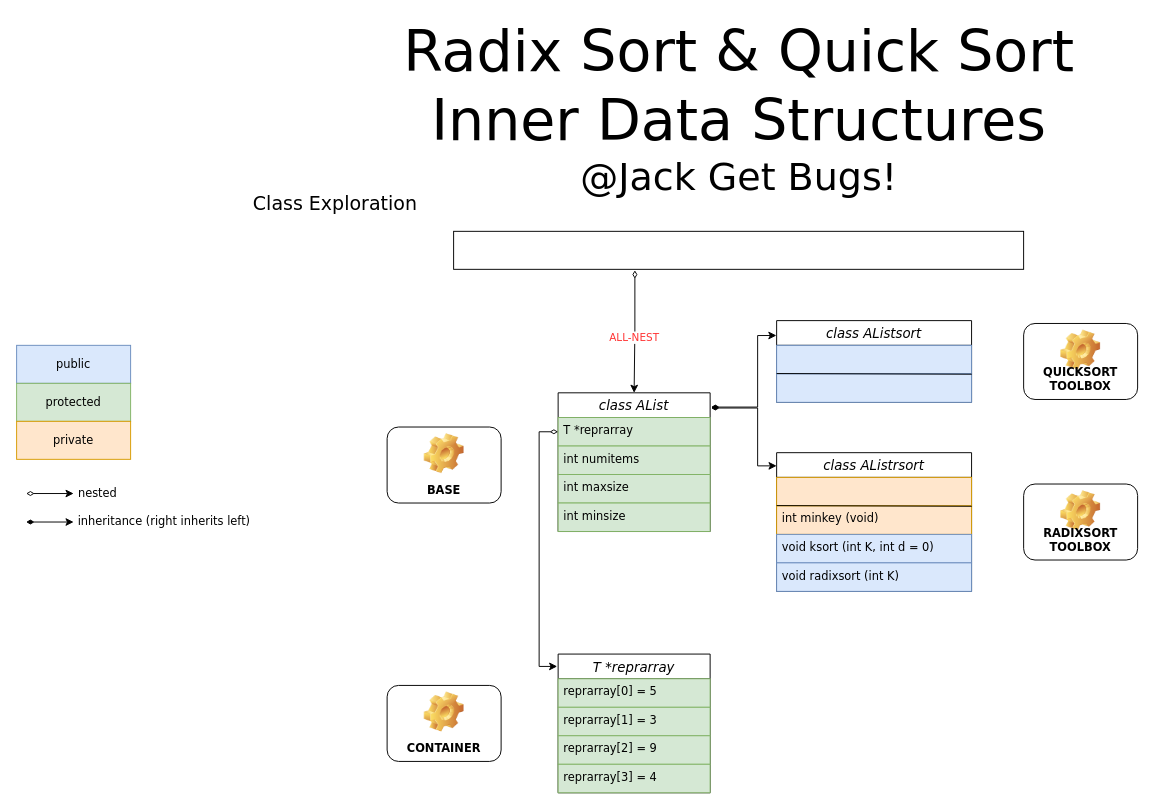
The diagram is 1154 pixels wide and 811 high, and some of its shapes have lost their labels. Here are the shapes that lost their labels. From the top down, the centre of each, then its label:
(x=738, y=249): template <class T>
(x=874, y=359): void bsort (void)
(x=874, y=387): void qsort (int thr)
(x=874, y=491): int maxkey (void)
